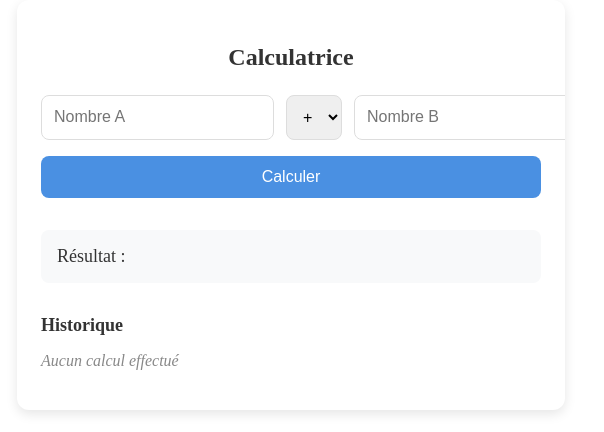
Scenario: Addition fonctionne correctement
Step 1. Type "5" into the field with placeholder "Nombre A" → (158, 117), box top-left (41, 95), bottom-right (274, 140)
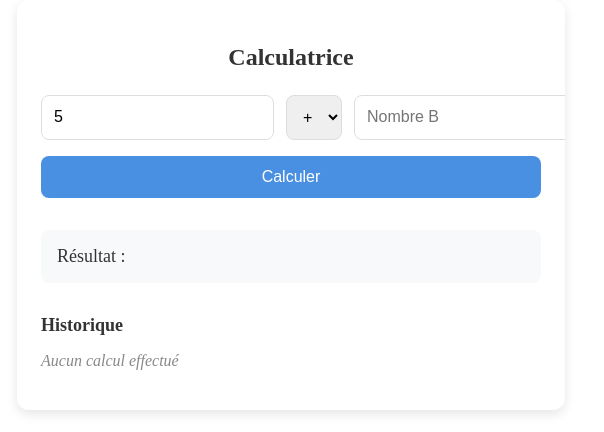
Step 2. Type "3" into the field with placeholder "Nombre B" → (470, 117), box top-left (354, 95), bottom-right (587, 140)
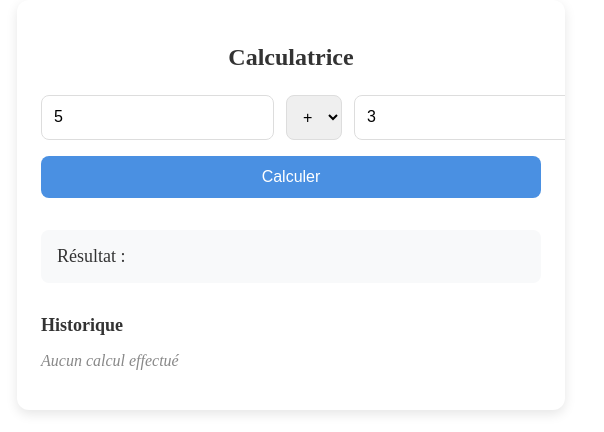
Step 3. Select "+" in the dropdown → (314, 117), box top-left (286, 95), bottom-right (342, 140)
Step 4. Click the button "Calculer" → (291, 177), box top-left (41, 156), bottom-right (541, 198)
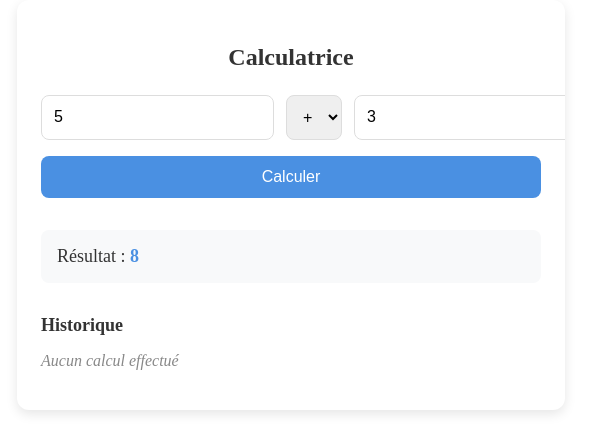
Result: the text "Résultat : 8" is shown at top-left (57, 246), bottom-right (139, 266)
